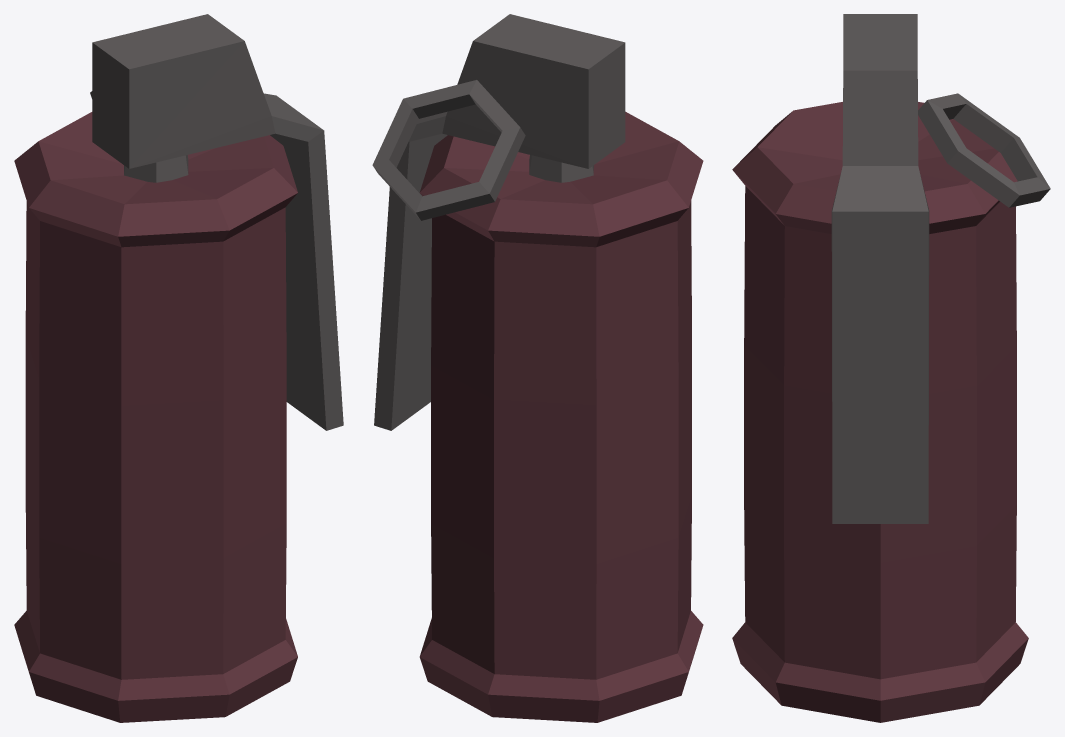
File: weapons-grenade-smoke-green.glb
The picture shows the model from 3 angles, left to right: view 1: azimuth 30°, elevation 25°; view 2: azimuth 150°, elevation 25°; view 3: azimuth 270°, elevation 25°; orthographic projection.
Parts seen in each view (by area): view 1: SM_Grenade_Smoke_Green; view 2: SM_Grenade_Smoke_Green; view 3: SM_Grenade_Smoke_Green.
Part boxes in pixels (<box>): SM_Grenade_Smoke_Green: <box>14,14,343,722</box>; SM_Grenade_Smoke_Green: <box>372,14,703,722</box>; SM_Grenade_Smoke_Green: <box>732,14,1050,722</box>.
Size of the model in its own units: 0.0722 by 0.1474 by 0.0678.
